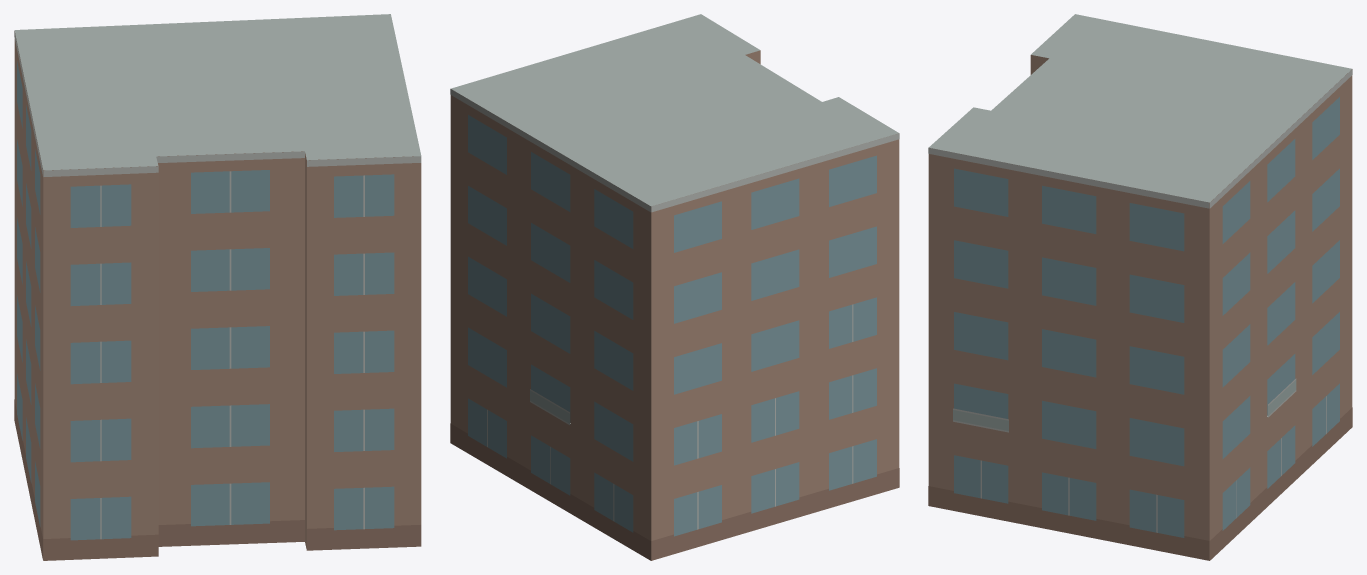
File: survey-upis-33039246.glb
3 renders of one model, left to right at view 1: azimuth 30°, elevation 25°; view 2: azimuth 150°, elevation 25°; view 3: azimuth 270°, elevation 25°, orthographic. The views are drawn at different scales.
Visible parts, largest first — view 1: survey-upis-33039246.tmp; view 2: survey-upis-33039246.tmp; view 3: survey-upis-33039246.tmp.
Part boxes in pixels (box(x1,y1,x2,y2)): survey-upis-33039246.tmp: box(14, 14, 421, 560); survey-upis-33039246.tmp: box(450, 14, 899, 560); survey-upis-33039246.tmp: box(928, 14, 1352, 560).
Bounding box in the file's own units: 16.03 × 14.2 × 15.23.
